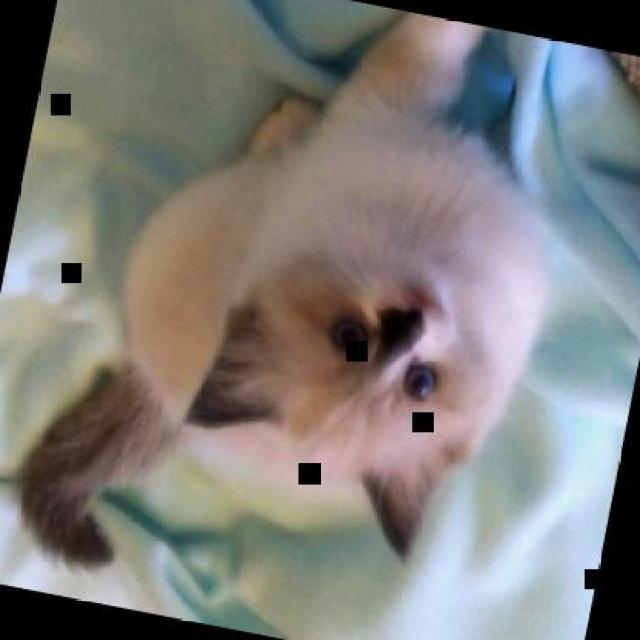cat: (4, 0, 597, 638)
